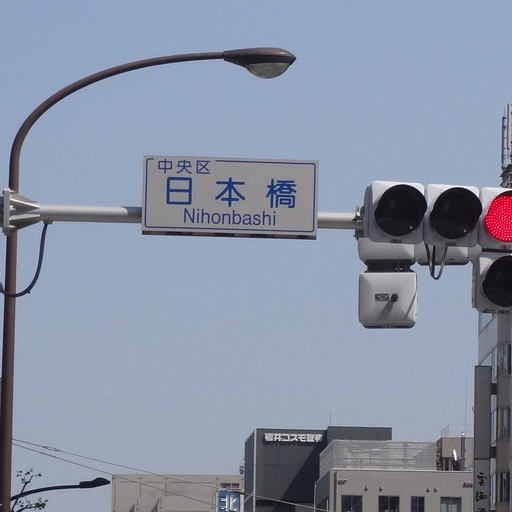Traffic_Signal_Red: (366, 173, 510, 249)
